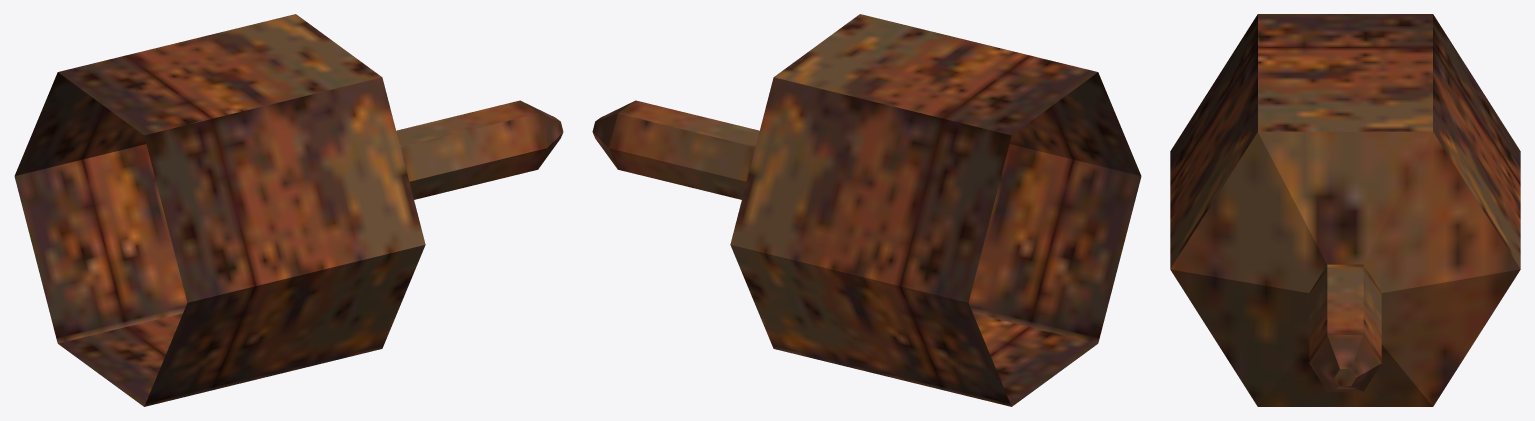
File: pipe_endpiece_with_handle_rusted.fbx
3 renders of one model, left to right at view 1: azimuth 30°, elevation 25°; view 2: azimuth 150°, elevation 25°; view 3: azimuth 270°, elevation 25°, orthographic.
Visible parts, largest first — view 1: pipe_endpiece_with_handle_rusted; view 2: pipe_endpiece_with_handle_rusted; view 3: pipe_endpiece_with_handle_rusted.
Boxes of the visible parts, box(x1,y1,x2,y2) form: pipe_endpiece_with_handle_rusted: box(14, 14, 563, 406); pipe_endpiece_with_handle_rusted: box(592, 14, 1141, 406); pipe_endpiece_with_handle_rusted: box(1170, 14, 1520, 406).
Size of the model in its own units: 38.06 by 21.6 by 24.94.
1 material, 1 textured.
